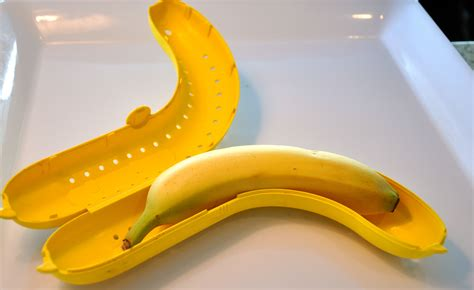banana: (116, 141, 405, 255)
